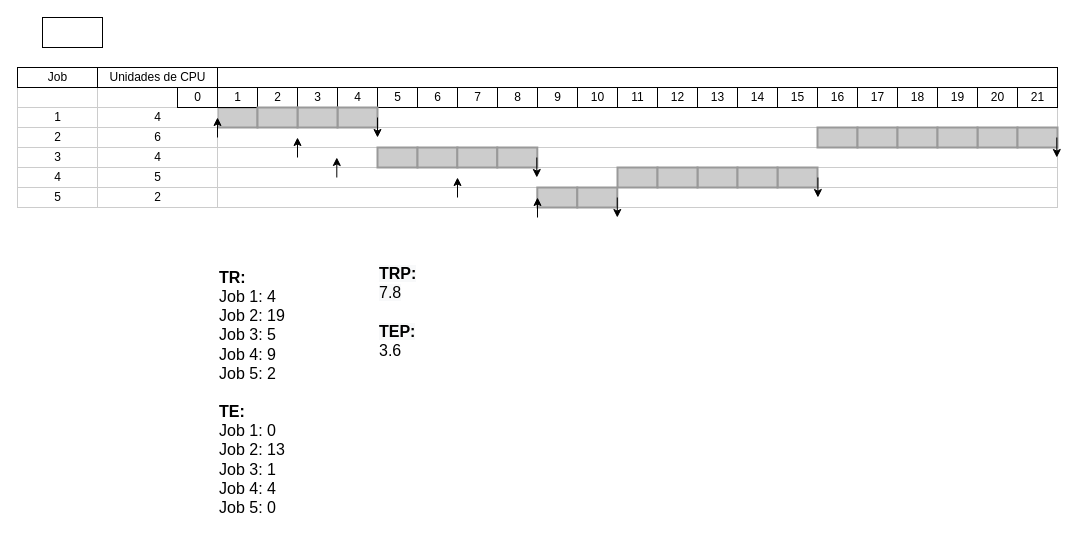
The diagram is 1083 pixels wide and 545 high, and some of its shapes have lost their labels. The shapes that lost their labels are listed below. From the top down, each one's box as (x1, y1, x2, y2) in pixels, then its label:
(42, 16, 102, 48): SRTF
(216, 66, 1058, 88): Instante de tiempo
